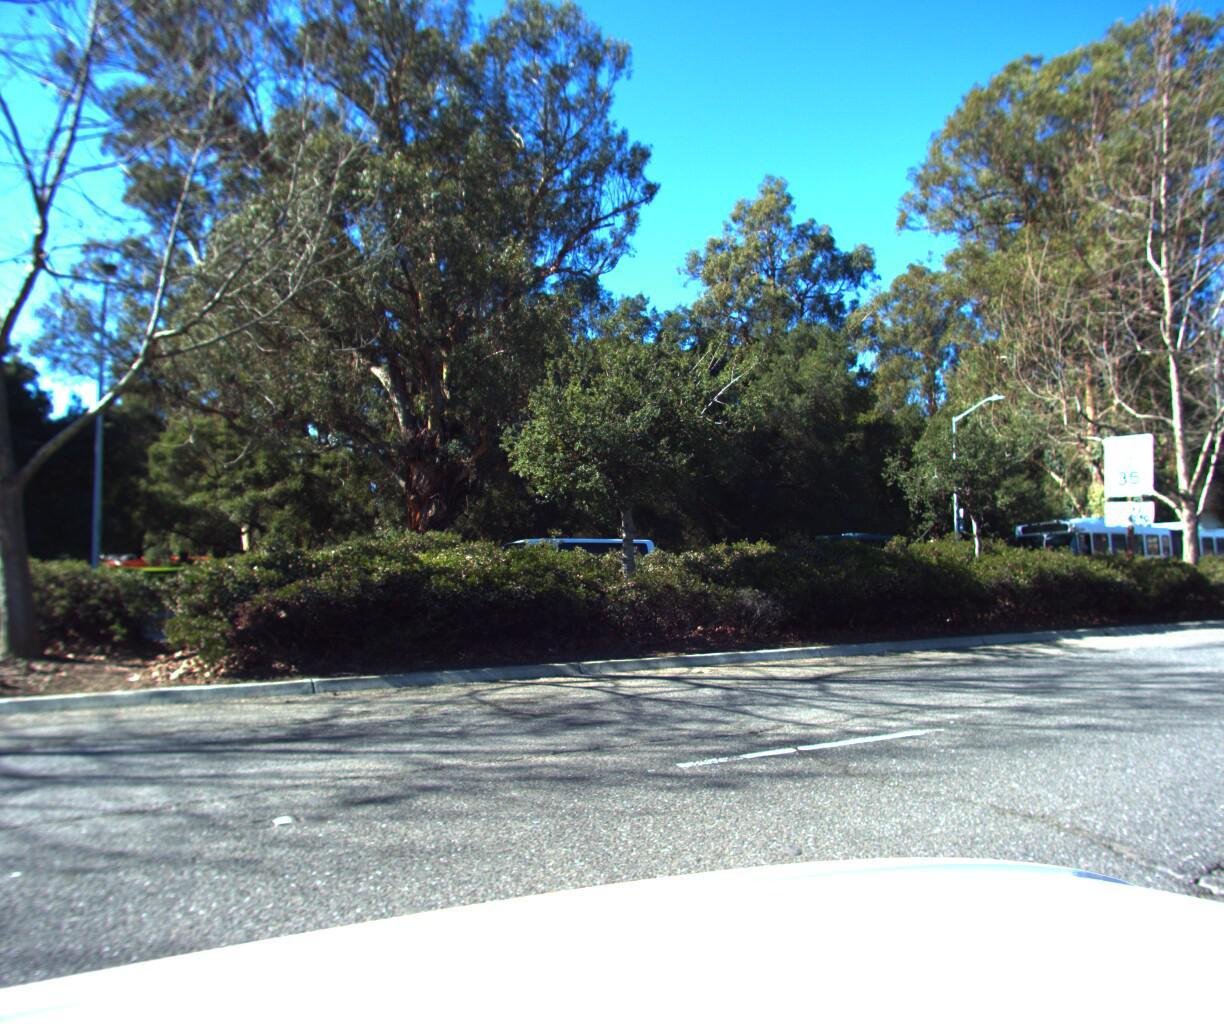bus: (986, 506, 1224, 581)
car: (486, 525, 658, 610)
